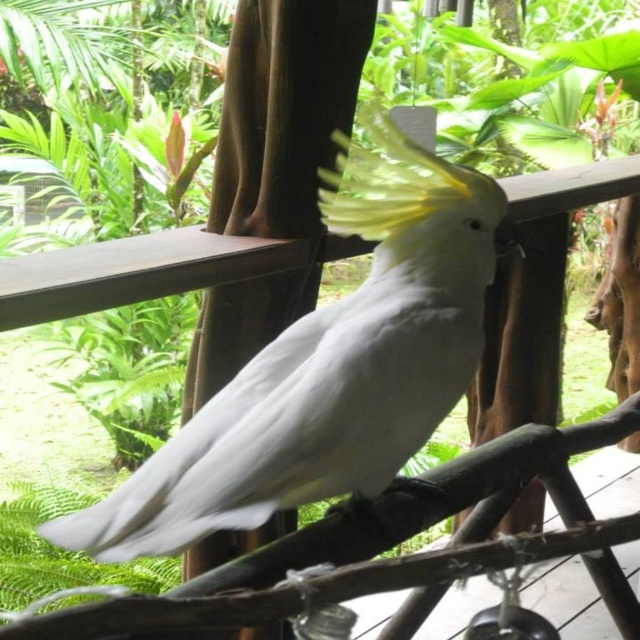Parrot: (33, 111, 531, 564)
